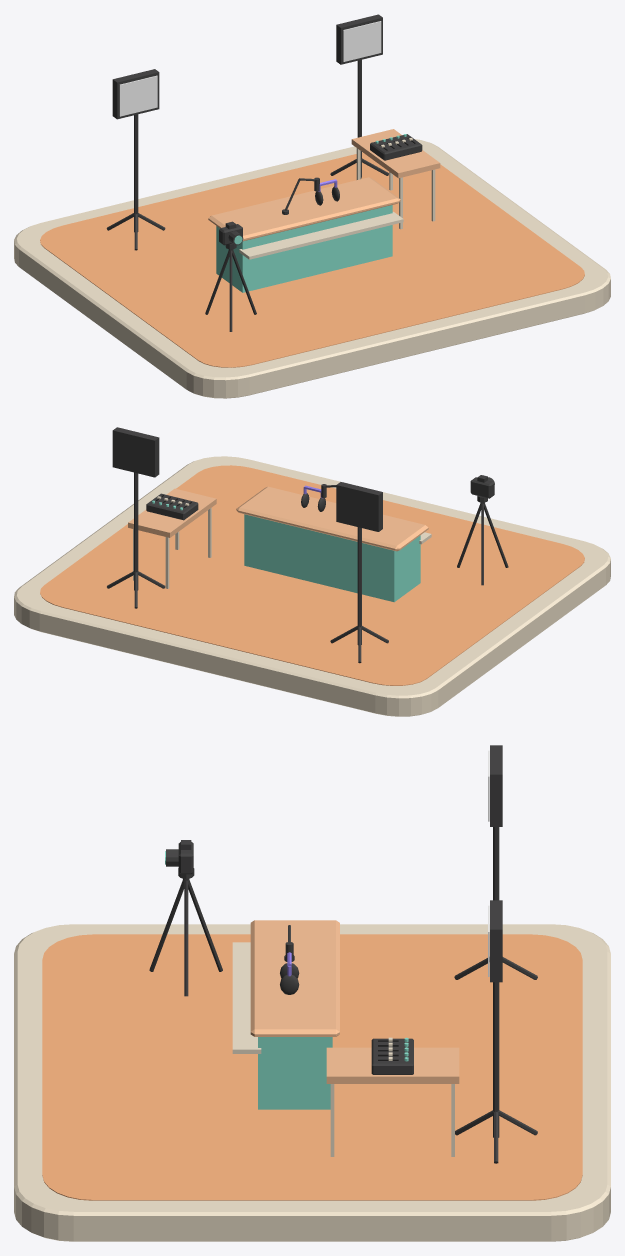
File: room.fbx
3 views of the same model, one above another, from view 1: azimuth 30°, elevation 25°; view 2: azimuth 150°, elevation 25°; view 3: azimuth 270°, elevation 25° (orthographic). The views are drawn at different scales.
Visible parts, largest first — view 1: COM-02 Floor Surface, COM-01 Rounded Base Direct, Counter body, Countertop, Top, Visitor shelf, Diffuser, Diffuser.001, Audio console, Light panel, Light panel.001, Pole; view 2: COM-02 Floor Surface, COM-01 Rounded Base Direct, Counter body, Countertop, Top, Light panel.001, Light panel, Audio console, Pole, Pole.001, Body; view 3: COM-02 Floor Surface, COM-01 Rounded Base Direct, Countertop, Counter body, Top, Visitor shelf, Audio console, Light panel.001, Light panel, Pole.001.
Part boxes in pixels (x1,y1,x2,y2): COM-02 Floor Surface: (40,152,584,367); COM-01 Rounded Base Direct: (14,139,610,398); Counter body: (216,205,392,292); Countertop: (208,177,400,241); Top: (351,129,440,229); Visitor shelf: (239,211,403,259); Diffuser: (119,75,157,116); Diffuser.001: (343,21,381,61); Audio console: (370,134,422,160); Light panel: (112,69,159,119); Light panel.001: (336,14,382,64); Pole: (134,114,138,232); COM-02 Floor Surface: (40,465,584,685); COM-01 Rounded Base Direct: (14,456,610,716); Counter body: (244,514,420,602); Countertop: (236,486,428,551); Top: (128,488,216,588); Light panel.001: (112,427,159,477); Light panel: (336,482,382,531); Audio console: (146,493,198,520); Pole: (357,527,361,644); Pole.001: (134,472,138,590); Body: (470,477,494,498); COM-02 Floor Surface: (42,934,582,1200); COM-01 Rounded Base Direct: (14,924,610,1241); Countertop: (250,920,339,1036); Counter body: (258,1037,332,1109); Top: (326,1047,459,1156); Visitor shelf: (232,942,261,1053); Audio console: (371,1038,413,1074); Light panel.001: (490,900,502,982); Light panel: (490,745,502,826); Pole.001: (493,982,499,1137).
Size of the model in its own units: 600 by 250 by 520.
